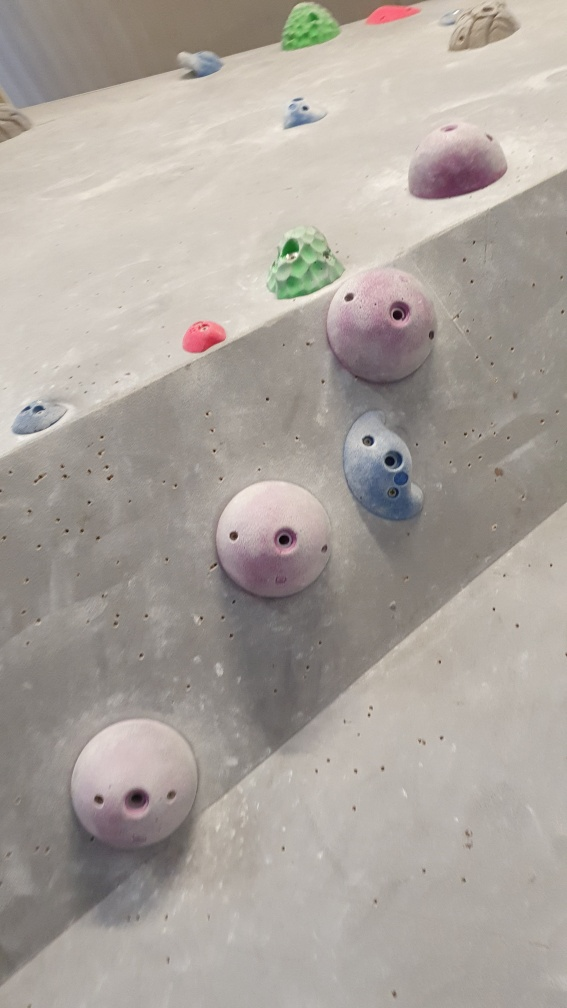Jug: (342, 407, 427, 527), (279, 1, 344, 57), (174, 49, 226, 76)
Pinch: (181, 317, 228, 356)
Sloper: (68, 718, 199, 855), (217, 476, 337, 600), (325, 264, 442, 388), (407, 118, 511, 202)
